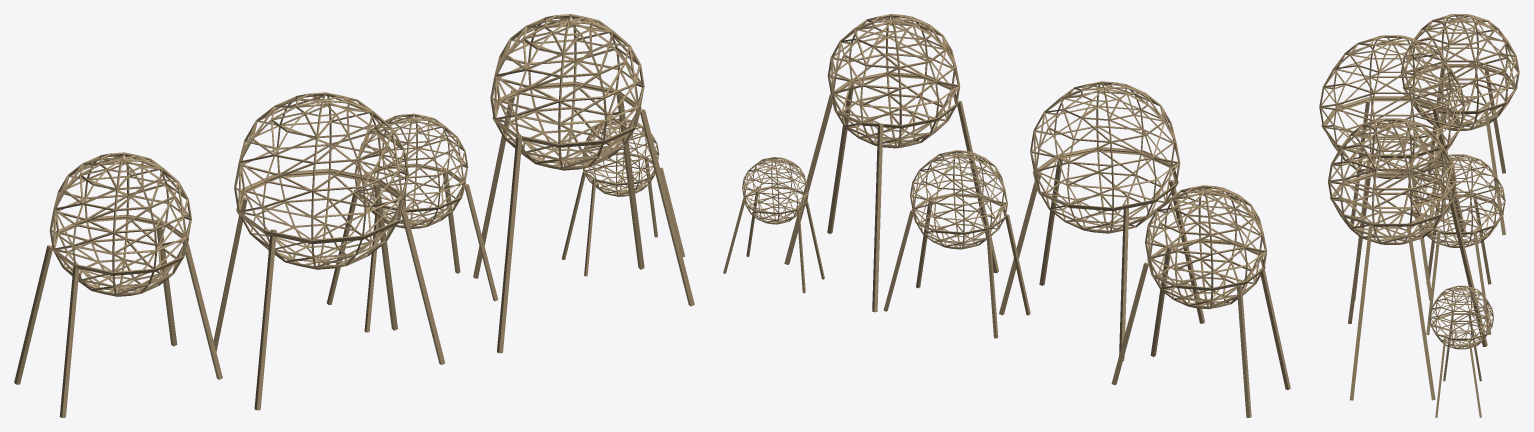
File: kureler.fbx
3 views of the same model, side by side, from view 1: azimuth 30°, elevation 25°; view 2: azimuth 150°, elevation 25°; view 3: azimuth 270°, elevation 25° (orthographic). The views are drawn at different scales.
Parts seen in each view (by area): view 1: Sphere.011; view 2: Sphere.011; view 3: Sphere.011.
Part boxes in pixels (x1,y1,x2,y2): Sphere.011: [14, 14, 694, 417]; Sphere.011: [723, 14, 1290, 417]; Sphere.011: [1319, 14, 1519, 417].
Size of the model in its own units: 1013 by 456 by 343.
